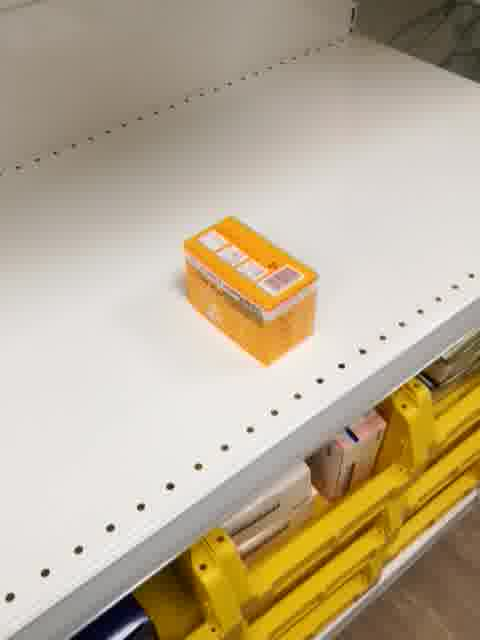jasminetea: (183, 213, 318, 368)
